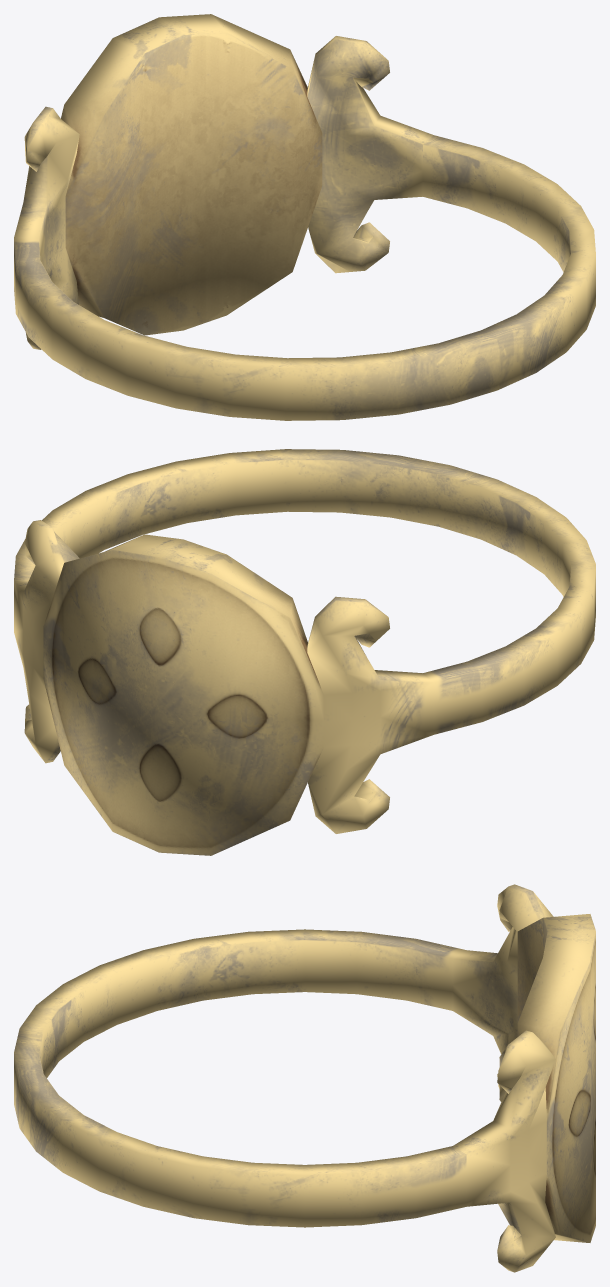
Rendered from Ring2.fbx.
3 renders of one model, top to bottom at view 1: azimuth 30°, elevation 25°; view 2: azimuth 150°, elevation 25°; view 3: azimuth 270°, elevation 25°, orthographic.
Visible parts, largest first — view 1: Ring2_LP; view 2: Ring2_LP; view 3: Ring2_LP.
Boxes of the visible parts, x1=… form: Ring2_LP: x1=14, y1=14, x2=595, y2=420; Ring2_LP: x1=14, y1=449, x2=595, y2=855; Ring2_LP: x1=14, y1=884, x2=595, y2=1272.
Bounding box in the file's own units: 1.79 × 1.79 × 0.9996.
